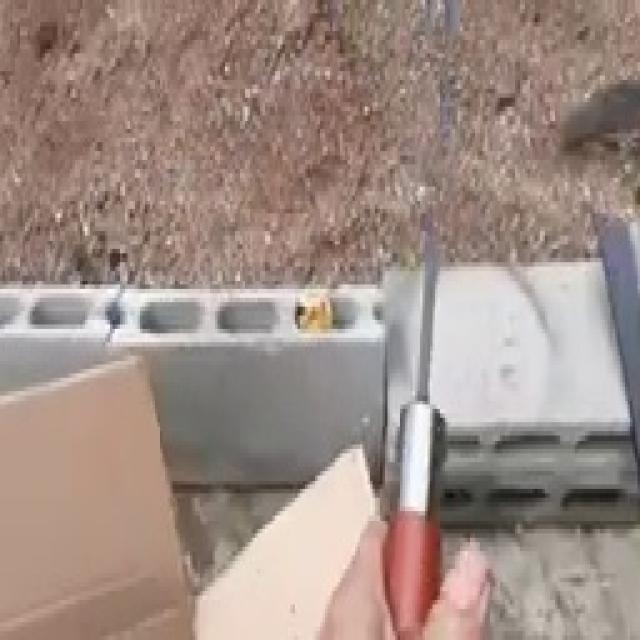eto: (386, 0, 453, 639)
